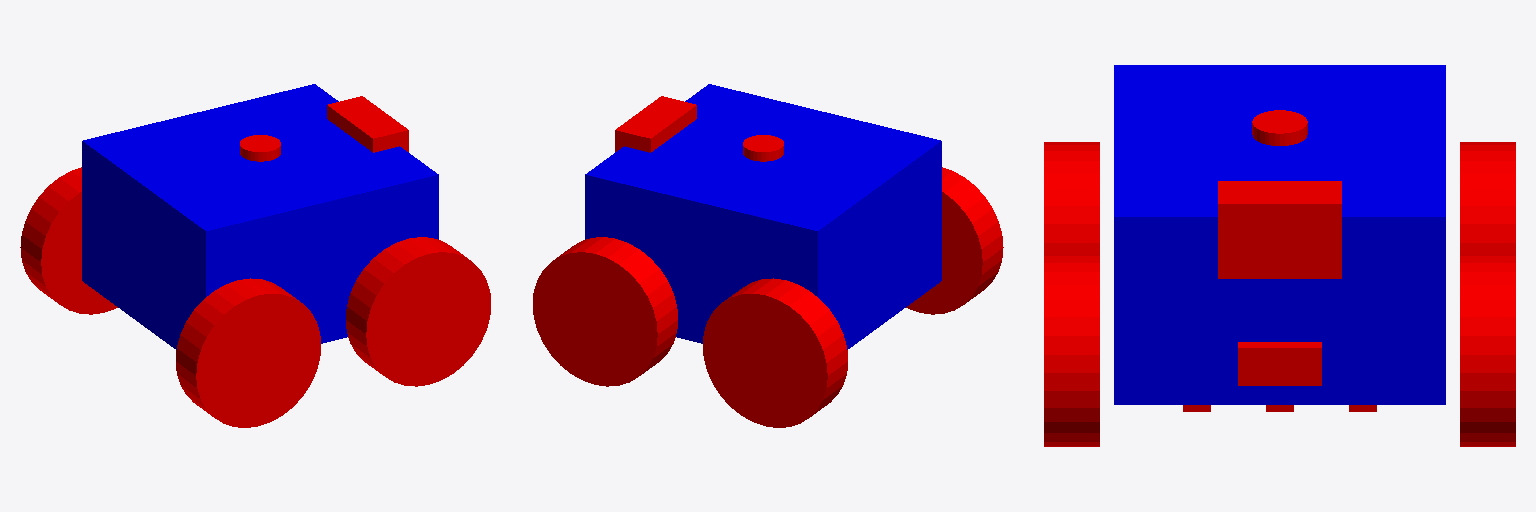
URDF robot description (robot):
<?xml version="1.0"?>

<robot name="robot">

  <!-- Link: chassis -->
  <link name="chassis">
    <pose>0 0 0.5 0 0 0</pose>

    <inertial>
      <mass value="2"/>
      <inertia ixx="0.0033375" ixy="0" ixz="0" iyy="0.0042042" iyz="0" izz="0.0056667"/>
    </inertial>

    <visual name="visual">
      <geometry>
        <box size="0.13 0.12 0.075"/>
      </geometry>
      <material name="blue">
        <color rgba="0.0 0.0 1.0 1"/>
      </material>
    </visual>

    <collision name="collision">
      <geometry>
        <box size="0.14 0.12 0.075"/>
      </geometry>
    </collision>
  </link>

  <link name="left_wheel">
    <inertial>
      <mass value="0.05"/>
      <inertia ixx="2.60416667e-06" ixy="0" ixz="0" iyy="2.60416667e-06" iyz="0" izz="8.68055556e-07"/>
    </inertial>
    <visual name="visual">
      <geometry>
        <cylinder radius="0.035" length="0.02"/>
      </geometry>
      <material name="red">
        <color rgba="1.0 0.0 0.0 1"/>
      </material>
    </visual>
    <collision name="collision">
      <geometry>
        <cylinder radius="0.035" length="0.02"/>
      </geometry>
    </collision>
  </link>

  <!-- Joint: wheel_joint -->
  <joint name="left_wheel_joint" type="continuous">
    <parent link="chassis"/>
    <child link="left_wheel"/>
    <origin xyz="0.045 0.075 -0.025" rpy="-1.5707 0 0"/> <!-- Adjust as needed -->
    <axis xyz="0 0 1"/>
  </joint>

  <link name="right_wheel">
    <inertial>
      <mass value="0.05"/>
      <inertia ixx="2.60416667e-06" ixy="0" ixz="0" iyy="2.60416667e-06" iyz="0" izz="8.68055556e-07"/>
    </inertial>
    <visual name="visual">
      <geometry>
        <cylinder radius="0.035" length="0.02"/>
      </geometry>
      <material name="red">
        <color rgba="1.0 0.0 0.0 1"/>
      </material>
    </visual>
    <collision name="collision">
      <geometry>
        <cylinder radius="0.035" length="0.02"/>
      </geometry>
    </collision>
  </link>

  <joint name="right_wheel_joint" type="continuous">
    <parent link="chassis"/>
    <child link="right_wheel"/>
    <origin xyz="0.045 -0.075 -0.025" rpy="-1.5707 0 0"/> <!-- Adjust as needed -->
    <axis xyz="0 0 1"/>
  </joint>

  <link name="left_rear_wheel">
    <inertial>
      <mass value="0.05"/>
      <inertia ixx="2.60416667e-06" ixy="0" ixz="0" iyy="2.60416667e-06" iyz="0" izz="8.68055556e-07"/>
    </inertial>
    <visual name="visual">
      <geometry>
        <cylinder radius="0.035" length="0.02"/>
      </geometry>
      <material name="red">
        <color rgba="1.0 0.0 0.0 1"/>
      </material>
    </visual>
    <collision name="collision">
      <geometry>
        <cylinder radius="0.035" length="0.02"/>
      </geometry>
    </collision>
  </link>

  <joint name="left_rear_wheel_joint" type="continuous">
    <parent link="chassis"/>
    <child link="left_rear_wheel"/>
    <origin xyz="-0.05 0.075 -0.025" rpy="-1.5707 0 0"/> <!-- Adjust as needed -->
    <axis xyz="0 0 1"/>
  </joint>

  <link name="right_rear_wheel">
    <inertial>
      <mass value="0.05"/>
      <inertia ixx="2.60416667e-06" ixy="0" ixz="0" iyy="2.60416667e-06" iyz="0" izz="8.68055556e-07"/>
    </inertial>
    <visual name="visual">
      <geometry>
        <cylinder radius="0.035" length="0.02"/>
      </geometry>
      <material name="red">
        <color rgba="1.0 0.0 0.0 1"/>
      </material>
    </visual>
    <collision name="collision">
      <geometry>
        <cylinder radius="0.035" length="0.02"/>
      </geometry>
    </collision>
  </link>

  <joint name="right_rear_wheel_joint" type="continuous">
    <parent link="chassis"/>
    <child link="right_rear_wheel"/>
    <origin xyz="-0.05 -0.075 -0.025" rpy="-1.5707 0 0"/> <!-- Adjust as needed -->
    <axis xyz="0 0 1"/>
  </joint>

<gazebo>

  <plugin name='ignition::gazebo::systems::DiffDrive' filename='libignition-gazebo-diff-drive-system.so'>
    <left_joint>left_wheel_joint</left_joint>
    <right_joint>right_wheel_joint</right_joint>
    <wheel_separation>0.15</wheel_separation>
    <wheel_radius>0.035</wheel_radius>

    <odometry_frame>odom</odometry_frame>
    <robot_base_frame>base_link</robot_base_frame>

    <publish_odom>true</publish_odom>
    <publish_odom_tf>true</publish_odom_tf>
    <publish_wheel_tf>true</publish_wheel_tf>
  </plugin>

  <plugin name='ignition::gazebo::systems::DiffDrive' filename='libignition-gazebo-diff-drive-system.so'>
    <left_joint>left_rear_wheel_joint</left_joint>
    <right_joint>right_rear_wheel_joint</right_joint>
    <wheel_separation>0.15</wheel_separation>
    <wheel_radius>0.035</wheel_radius>
    <odom_publish_frequency>1</odom_publish_frequency>
  </plugin>

</gazebo>

  <link name="base_link"/>

  <joint name="base_joint" type="fixed">
    <parent link="base_link"/>
    <child link="chassis"/>
    <origin xyz="0 0 0.1" rpy="0 0 0"/>
  </joint>


  <joint name="base_footprint_joint" type="fixed">
    <parent link="base_link"/>
    <child link="base_footprint"/>
    <origin xyz="0 0 0" rpy="0 0 0"/>
  </joint>

  <link name="base_footprint">
  </link>

  <joint name="laser_joint" type="fixed">
    <parent link="chassis"/>
    <child link="laser_frame"/>
    <origin xyz="0 0 0.0425" rpy="0 0 0"/>
  </joint>

<link name="laser_frame">
    <visual>
        <geometry>
            <cylinder radius="0.01" length="0.005"/>
        </geometry>
        <material name="red">
          <color rgba="1.0 0.0 0.0 1"/>
        </material>
    </visual>
    <collision>
      <geometry>
        <cylinder radius="0.01" length="0.005"/>
      </geometry>
    </collision>
</link>

<gazebo reference="laser_frame">
    <material>Gazebo/Red</material>

    <sensor name='gpu_lidar' type='gpu_lidar'>
      <topic>simulator_lidar</topic>
      <update_rate>20</update_rate>
      <lidar>
        <scan>
          <horizontal>
            <samples>360</samples>
            <resolution>1</resolution>
            <min_angle>-3.14</min_angle>
            <max_angle>3.14</max_angle>
          </horizontal>

          <vertical>
            <samples>1</samples>
            <resolution>1</resolution>
            <min_angle>0</min_angle>
            <max_angle>0</max_angle>
          </vertical>
        </scan>
        <range>
          <min>0.08</min>
          <max>10</max>
          <resolution>0.01</resolution>
        </range>
        <noise>
          <type>none</type>
          <mean>0</mean>
          <stddev>0</stddev>
        </noise>
        <visibility_mask>[number redacted]</visibility_mask>
      </lidar>
    </sensor>

</gazebo>

<gazebo>
  <plugin name="ignition::gazebo::systems::JointStatePublisher" filename="libignition-gazebo-joint-state-publisher-system.so">

    <update_rate>10</update_rate>
      <joint_name>left_wheel_joint</joint_name>
      <joint_name>right_wheel_joint</joint_name>
      <joint_name>left_rear_wheel_joint</joint_name>
      <joint_name>right_rear_wheel_joint</joint_name>
      <topic>joint_states</topic>
  </plugin>

</gazebo>


<link name="ultrasonic">
  <visual>
    <geometry>
      <box size="0.01 0.03 0.015"/>
    </geometry>
      <material name="red">
        <color rgba="1.0 0.0 0.0 1"/>
      </material>
  </visual>
  <collision>
    <geometry>
      <box size="0.01 0.03 0.015"/>
    </geometry>
  </collision>
</link>

<joint name="ultrasonic_joint" type="fixed">
  <parent link="chassis"/>
  <child link="ultrasonic"/>
  <origin xyz="0.065 0 -0.02" rpy="0 0 0"/>
</joint>

<gazebo reference="ultrasonic">
  <material>Gazebo/Red</material>

  <sensor name='gpu_lidar_ultra' type='gpu_lidar'>
    <topic>simulator_ultrasonic</topic>
    <update_rate>20</update_rate>
    <lidar>
      <scan>
        <horizontal>
          <samples>3</samples>
          <resolution>1</resolution>
          <min_angle>-0.1308</min_angle>
          <max_angle>0.1308</max_angle>
        </horizontal>
        <vertical>
          <samples>1</samples>
          <resolution>1</resolution>
          <min_angle>0</min_angle>
          <max_angle>0</max_angle>
        </vertical>
      </scan>
      <range>
        <min>0.02</min>
        <max>4</max>
        <resolution>0.01</resolution>
      </range>
      <noise>
        <type>none</type>
        <mean>0</mean>
        <stddev>0</stddev>
      </noise>
      <visibility_mask>[number redacted]</visibility_mask>
    </lidar>
  </sensor>

</gazebo>


<link name="camera">
  <inertial>
    <mass value="0.01"/>
    <inertia ixx="2.4375e-06" ixy="0" ixz="0" iyy="1.084e-06" iyz="0" izz="2.0208e-06"/>
  </inertial>
  <visual>
    <geometry>
      <box size="0.02 0.045 0.03"/>
    </geometry>
      <material name="red">
        <color rgba="1.0 0.0 0.0 1"/>
      </material>
  </visual>
  <collision>
    <geometry>
      <box size="0.02 0.045 0.03"/>
    </geometry>
  </collision>
</link>

<gazebo reference="camera">
  <sensor name='camera' type='camera'>
    <topic>simulator_camera</topic>
    <update_rate>30</update_rate>
    <camera name='__default__'>
        <horizontal_fov>1.0469999999999999</horizontal_fov>
        <image>
            <width>960</width>
            <height>540</height>
            <format>RGB_INT8</format>
        </image>
        <clip>
            <near>0.01</near>
            <far>100</far>
        </clip>
        <visibility_mask>[number redacted]</visibility_mask>
        <lens>
            <type>stereographic</type>
            <scale_to_hfov>true</scale_to_hfov>
            <cutoff_angle>1.5708</cutoff_angle>
            <env_texture_size>256</env_texture_size>
        </lens>
    </camera>
</sensor>

</gazebo>

<joint name="camera_servo_joint" type="revolute">
  <parent link="chassis"/>
  <child link="camera"/>
  <origin xyz="0.06 0 0.03" rpy="0 0 0"/>
  <axis xyz="0 1 0"/>
  <limit lower="-3.14" upper="3.14" effort="10" velocity="3.14"/>
</joint>

<gazebo>
  <plugin name="ignition::gazebo::systems::JointController" filename="libignition-gazebo-joint-controller-system.so">
    <joint_name>camera_servo_joint</joint_name>
</plugin>
</gazebo>



<link name="line_tracking_left">
  <visual>
    <geometry>
      <box size="0.01 0.01 0.01"/>
    </geometry>
      <material name="red">
        <color rgba="1.0 0.0 0.0 1"/>
      </material>
  </visual>
  <collision>
    <geometry>
      <box size="0.01 0.01 0.01"/>
    </geometry>
  </collision>
</link>

<gazebo reference="line_tracking_left">
  <sensor name='line_tracking_left' type='camera'>
    <topic>line_tracking</topic>
    <update_rate>10</update_rate>
    <camera name='__default__'>
        <horizontal_fov>0.11</horizontal_fov>
        <image>
            <width>1</width>
            <height>1</height>
            <format>RGB_INT8</format>
        </image>
        <clip>
            <near>0.01</near>
            <far>100</far>
        </clip>
    </camera>
</sensor>

</gazebo>

<joint name="line_tracking_left_joint" type="fixed">
  <parent link="chassis"/>
  <child link="line_tracking_left"/>
  <origin xyz="0.055 0.03 -0.0375" rpy="0 1.57 0"/>
</joint>


<link name="line_tracking_middle">
  <visual>
    <geometry>
      <box size="0.01 0.01 0.01"/>
    </geometry>
      <material name="red">
        <color rgba="1.0 0.0 0.0 1"/>
      </material>
  </visual>
  <collision>
    <geometry>
      <box size="0.01 0.01 0.01"/>
    </geometry>
  </collision>
</link>

<gazebo reference="line_tracking_middle">
  <sensor name='line_tracking_middle' type='camera'>
    <topic>line_tracking</topic>
    <update_rate>10</update_rate>
    <camera name='__default__'>
        <horizontal_fov>0.11</horizontal_fov>
        <image>
            <width>1</width>
            <height>1</height>
            <format>RGB_INT8</format>
        </image>
        <clip>
            <near>0.01</near>
            <far>100</far>
        </clip>
    </camera>
</sensor>

</gazebo>

<joint name="line_tracking_middle_joint" type="fixed">
  <parent link="chassis"/>
  <child link="line_tracking_middle"/>
  <origin xyz="0.055 0 -0.0375" rpy="0 1.57 0"/>
</joint>


<link name="line_tracking_right">
  <visual>
    <geometry>
      <box size="0.01 0.01 0.01"/>
    </geometry>
      <material name="red">
        <color rgba="1.0 0.0 0.0 1"/>
      </material>
  </visual>
  <collision>
    <geometry>
      <box size="0.01 0.01 0.01"/>
    </geometry>
  </collision>
</link>

<gazebo reference="line_tracking_right">
  <sensor name='line_tracking_right' type='camera'>
    <topic>line_tracking</topic>
    <update_rate>10</update_rate>
    <camera name='__default__'>
        <horizontal_fov>0.11</horizontal_fov>
        <image>
            <width>1</width>
            <height>1</height>
            <format>RGB_INT8</format>
        </image>
        <clip>
            <near>0.01</near>
            <far>100</far>
        </clip>
    </camera>
</sensor>

</gazebo>

<joint name="line_tracking_right_joint" type="fixed">
  <parent link="chassis"/>
  <child link="line_tracking_right"/>
  <origin xyz="0.055 -0.03 -0.0375" rpy="0 1.57 0"/>
</joint>
</robot>

--- What the picture shows (computed from the rendered views, not written in the file) ---
The picture shows the robot from 3 angles, left to right: view 1: azimuth 30°, elevation 25°; view 2: azimuth 150°, elevation 25°; view 3: azimuth 270°, elevation 25°; orthographic projection.
Robot: robot — 13 links, 12 joints (1 revolute, 4 continuous, 7 fixed); root link base_link; default pose: all joints at 0.
Links seen in each view (by area): view 1: chassis, right_wheel, right_rear_wheel, left_rear_wheel, camera, laser_frame; view 2: chassis, left_wheel, left_rear_wheel, right_rear_wheel, camera, laser_frame; view 3: chassis, camera, left_wheel, right_wheel, left_rear_wheel, right_rear_wheel, ultrasonic, laser_frame.
Boxes of the visible links, x1,y1,x2,y2 form: chassis: (82,84,438,349); right_wheel: (346,237,490,386); right_rear_wheel: (176,278,320,427); left_rear_wheel: (20,167,117,314); camera: (327,96,408,152); laser_frame: (240,135,280,161); chassis: (585,84,941,349); left_wheel: (533,237,677,386); left_rear_wheel: (703,278,847,427); right_rear_wheel: (906,167,1003,314); camera: (615,96,696,152); laser_frame: (743,135,783,161); chassis: (1114,65,1445,404); camera: (1218,181,1341,278); left_wheel: (1460,254,1515,446); right_wheel: (1044,254,1099,446); left_rear_wheel: (1460,142,1515,253); right_rear_wheel: (1044,142,1099,253); ultrasonic: (1238,342,1321,385); laser_frame: (1252,110,1307,145).
Size in the robot's own frame: 0.165 by 0.17 by 0.105 metres.
Geometry: primitives only (box / cylinder / sphere), no mesh files.